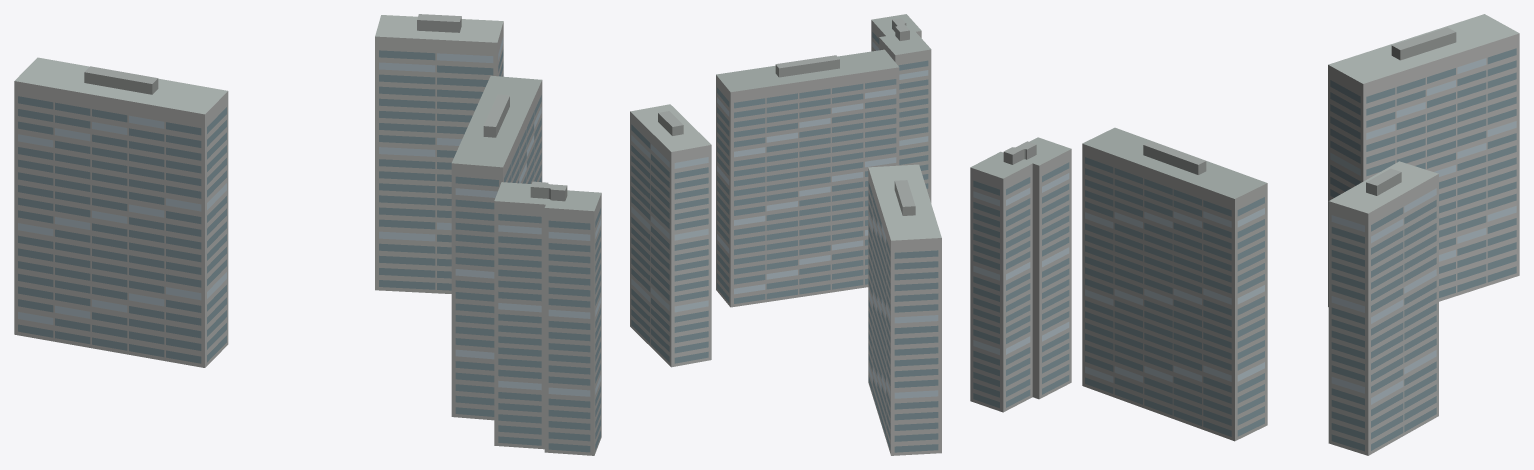
File: apt-a12188202.glb
The picture shows the model from 3 angles, left to right: view 1: azimuth 30°, elevation 25°; view 2: azimuth 150°, elevation 25°; view 3: azimuth 270°, elevation 25°; orthographic projection. The views are drawn at different scales.
Parts seen in each view (by area): view 1: apt-a12188202; view 2: apt-a12188202; view 3: apt-a12188202.
Boxes of the visible parts, x1,y1,x2,y2 form: apt-a12188202: (14,14,601,455); apt-a12188202: (630,14,941,455); apt-a12188202: (970,14,1519,455).
Bounding box in the file's own units: 100 × 59 × 116.
